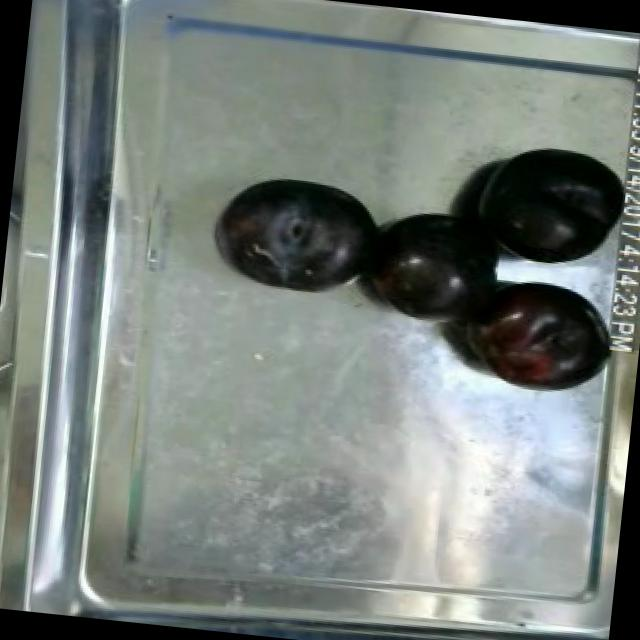Fruit: (460, 133, 632, 279), (447, 263, 619, 407), (209, 165, 389, 302), (350, 196, 521, 336)
